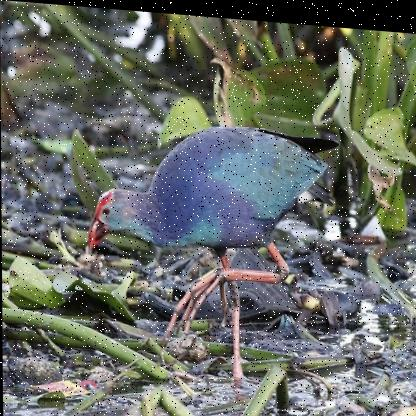Burung: (82, 109, 332, 382)
